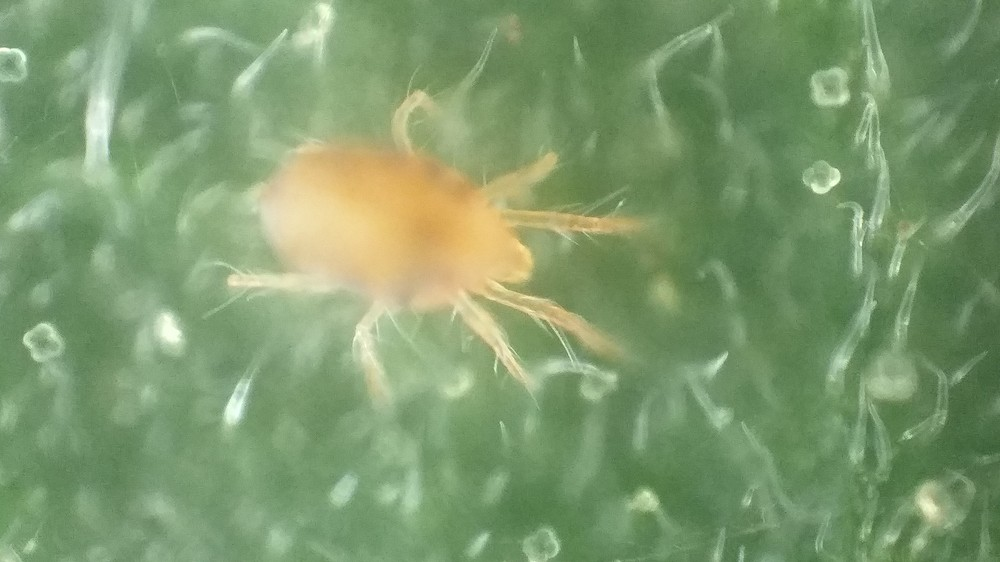Aracnido Rojo: (219, 86, 689, 407)
